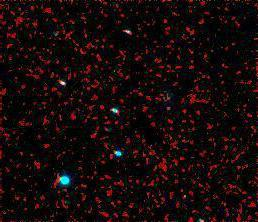star: (154, 94, 184, 124)
